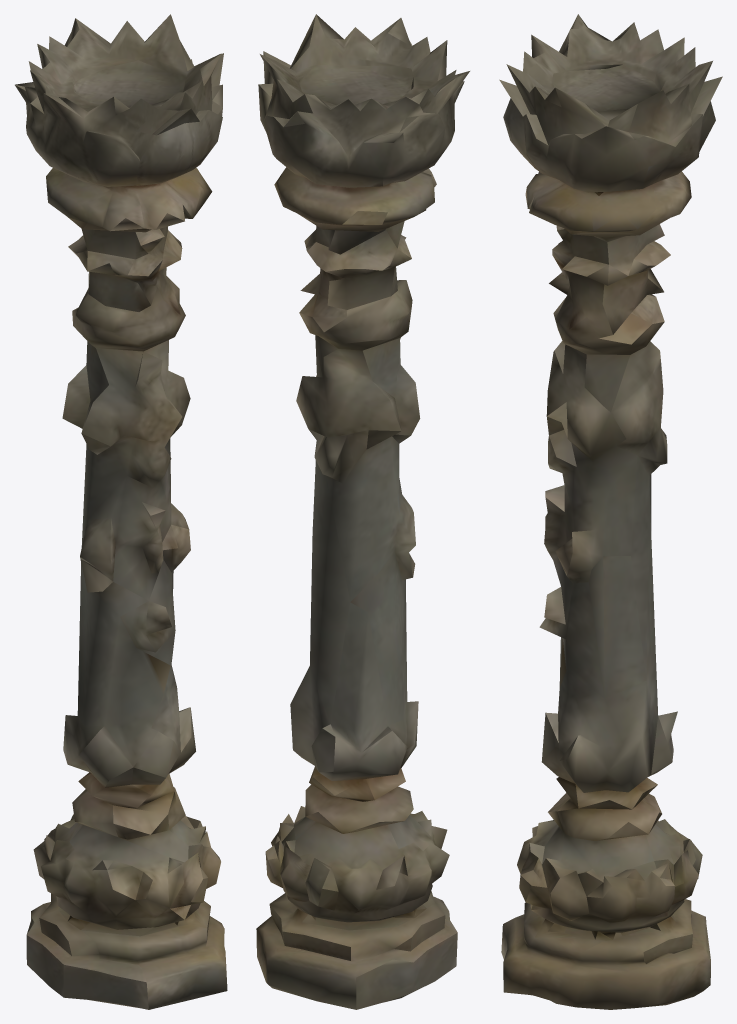
File: pillar1.glb
The picture shows the model from 3 angles, left to right: view 1: azimuth 30°, elevation 25°; view 2: azimuth 150°, elevation 25°; view 3: azimuth 270°, elevation 25°; orthographic projection.
Visible parts, largest first — view 1: pillar001; view 2: pillar001; view 3: pillar001.
Boxes of the visible parts, x1,y1,x2,y2 form: pillar001: [15, 14, 227, 1009]; pillar001: [256, 14, 469, 1009]; pillar001: [499, 14, 722, 1009].
Bounding box in the file's own units: 0.1639 × 0.7458 × 0.1635.
Materials: 1 (1 with a texture image).
